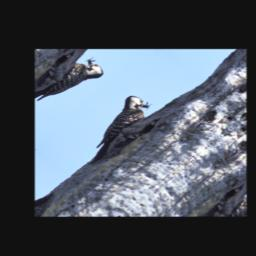Woodpecker: (65, 90, 169, 172)
